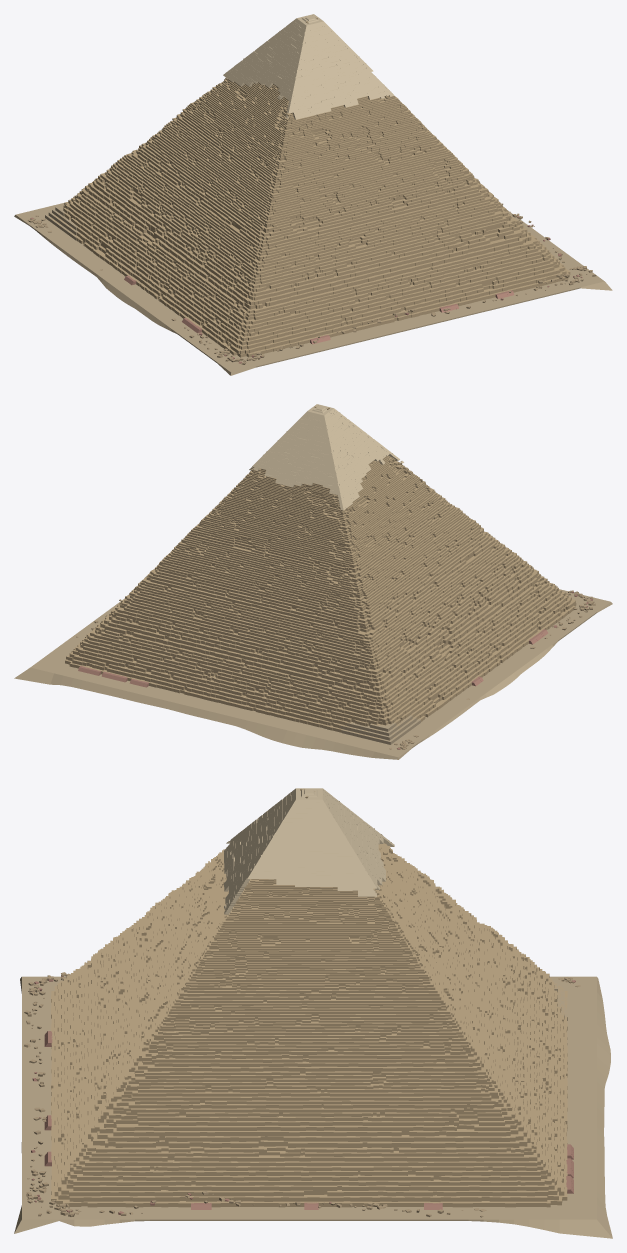
Rendered from pyramid-of-khafre.glb.
3 views of the same model, one above another, from view 1: azimuth 30°, elevation 25°; view 2: azimuth 150°, elevation 25°; view 3: azimuth 270°, elevation 25° (orthographic). The views are drawn at different scales.
Visible parts, largest first — view 1: pyramid-of-khafre; view 2: pyramid-of-khafre; view 3: pyramid-of-khafre.
Boxes of the visible parts, <box> form: pyramid-of-khafre: <box>14,14,612,375</box>; pyramid-of-khafre: <box>14,404,612,759</box>; pyramid-of-khafre: <box>14,788,612,1238</box>.
Bounding box in the file's own units: 243 × 143 × 243.
